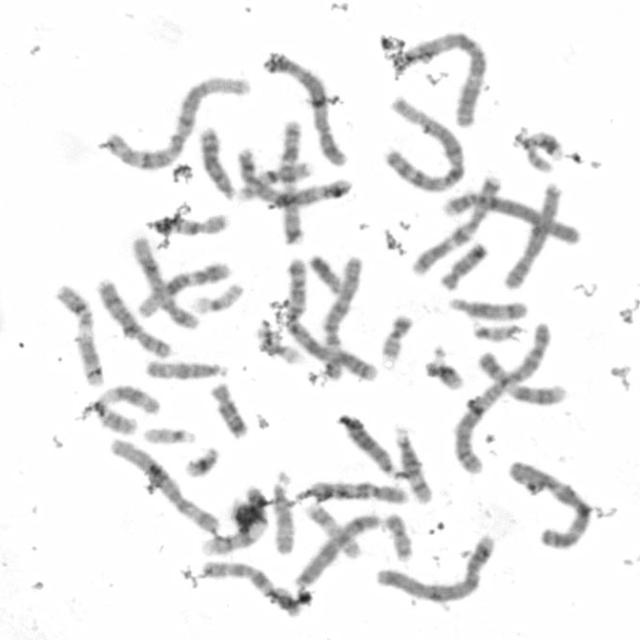A1: (101, 72, 254, 173), (379, 94, 466, 194)
A2: (449, 320, 552, 480), (284, 257, 382, 384)
A3: (394, 30, 486, 127), (506, 457, 593, 552)
B4: (374, 534, 495, 607), (442, 189, 582, 247)
B5: (260, 50, 351, 167), (237, 146, 354, 209)
C10: (198, 560, 300, 618), (309, 479, 410, 507)
C11: (54, 284, 107, 386), (94, 382, 162, 434)
C12: (130, 236, 201, 332), (136, 262, 234, 320)
C6: (106, 437, 222, 536), (320, 254, 366, 381)
C7: (409, 174, 503, 277), (276, 119, 302, 247)
C8: (499, 184, 564, 293), (94, 276, 174, 358)
C9: (197, 484, 270, 557), (478, 350, 568, 407)
D13: (336, 416, 404, 480), (200, 126, 237, 202)
D14: (388, 422, 434, 504), (448, 296, 530, 322)
D15: (271, 471, 296, 559), (144, 358, 228, 381)
E16: (236, 160, 316, 203), (154, 212, 230, 237)
E17: (304, 504, 364, 559), (522, 129, 566, 174)
E18: (434, 240, 488, 292), (209, 382, 249, 438)
F19: (255, 327, 306, 367), (191, 282, 244, 316)
F20: (384, 511, 416, 563), (379, 313, 414, 360)
G21: (422, 359, 466, 392), (182, 443, 222, 479)
G22: (468, 318, 528, 346), (143, 423, 198, 446)
X: (294, 512, 383, 591)
Y: (307, 254, 344, 296)
